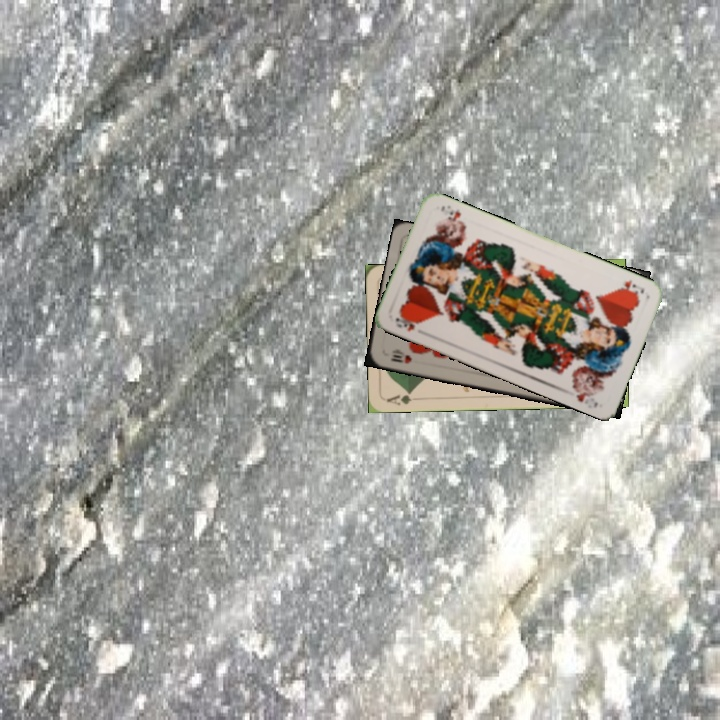GA: (383, 388, 415, 408)
H10: (386, 346, 414, 366)
HO: (391, 311, 424, 334), (614, 276, 647, 299)
